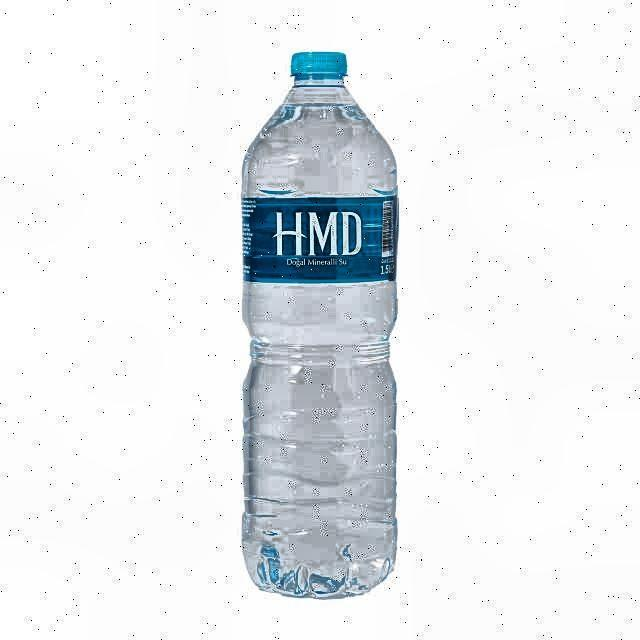plastic: (240, 51, 398, 603)
